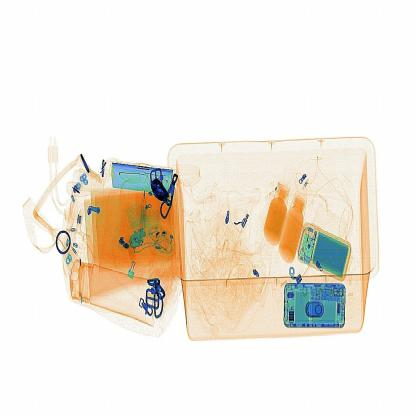scissors: (134, 172, 174, 218)
